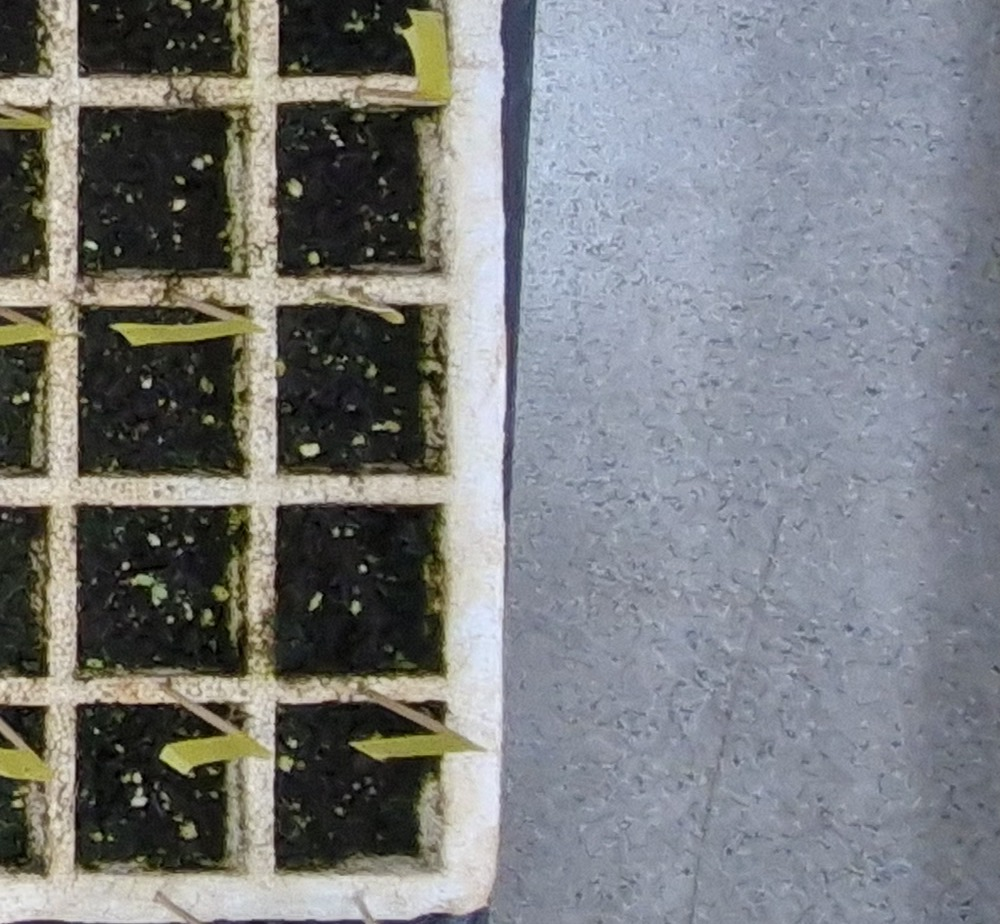Folha: (153, 584, 166, 599), (137, 575, 154, 585)
Germinacao: (135, 574, 169, 600)
